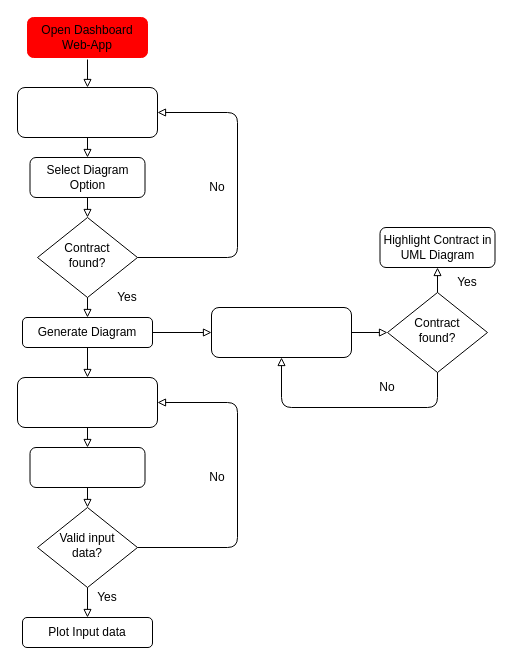
Some shapes in this 513 by 665 pixel diagram are drawn without their labels. Here are the shapes that lost their labels. From the top down, the centre of each, then its label:
point 87,112: Add contract address / Source code local path
point 281,332: Search for Contract in UML Diagram
point 87,402: Add input data
point 87,467: Select Plot option
